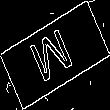M_SE: (29, 22, 81, 88)
